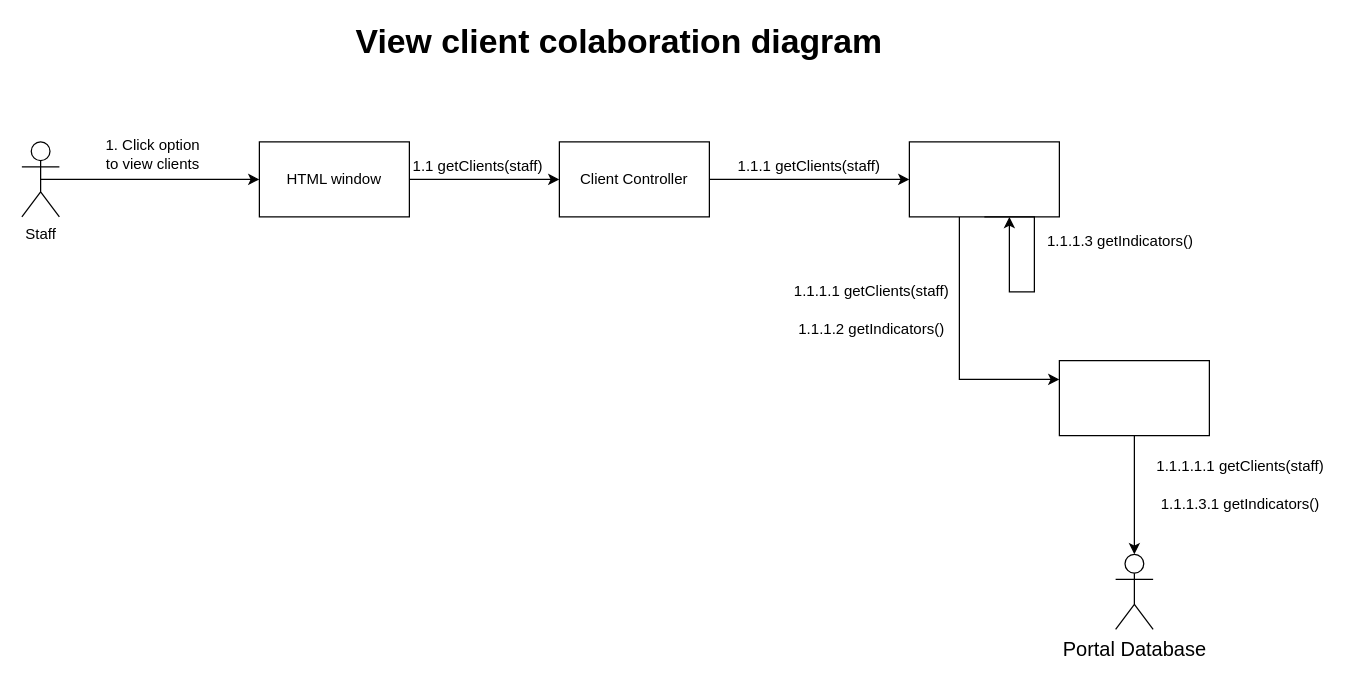
Image size: 1350x683. Some labels were removed from this diagram. The centre of each missing label's shape, as x and y in pixels:
"Client Mapper" belongs at (1133,397).
"Client Service" belongs at (983,179).
